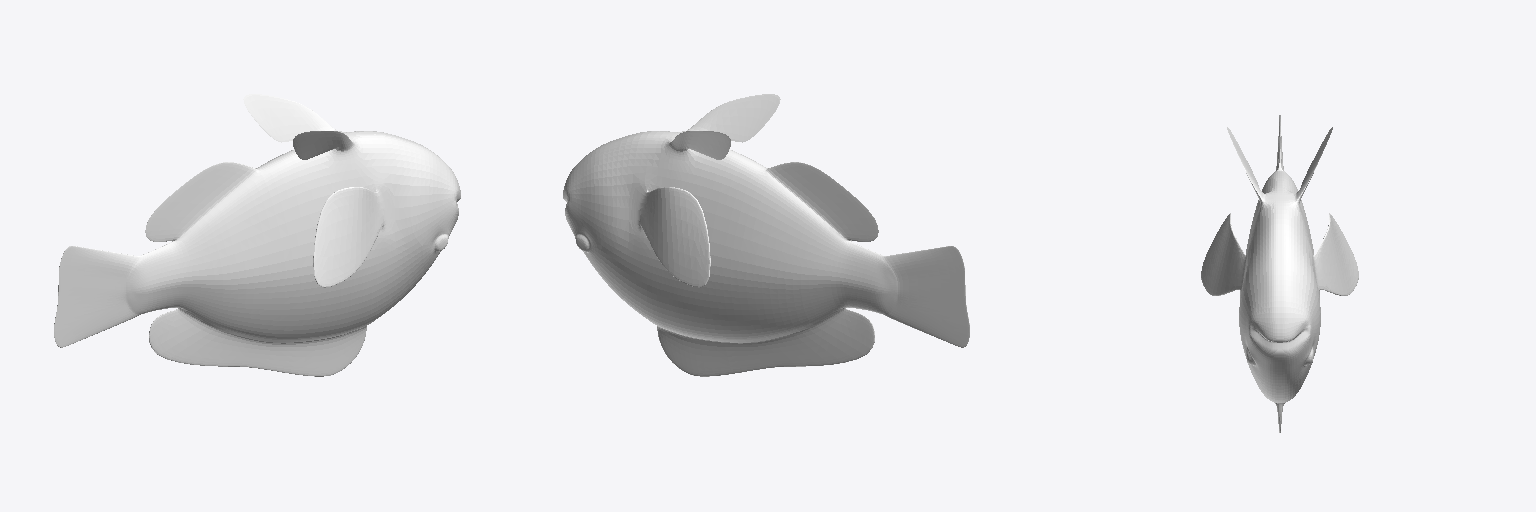
The model's file is fish.obj.
The picture shows the model from 3 angles: view 1: azimuth 30°, elevation 25°; view 2: azimuth 150°, elevation 25°; view 3: azimuth 270°, elevation 25°; orthographic projection.
Parts seen in each view (by area): view 1: 12265_Fish_v1_L2; view 2: 12265_Fish_v1_L2; view 3: 12265_Fish_v1_L2.
Boxes of the visible parts, x1=… form: 12265_Fish_v1_L2: x1=54, y1=94, x2=460, y2=376; 12265_Fish_v1_L2: x1=563, y1=94, x2=969, y2=376; 12265_Fish_v1_L2: x1=1201, y1=115, x2=1358, y2=432.
Bounding box in the file's own units: 1.52 × 0.9865 × 0.5122.